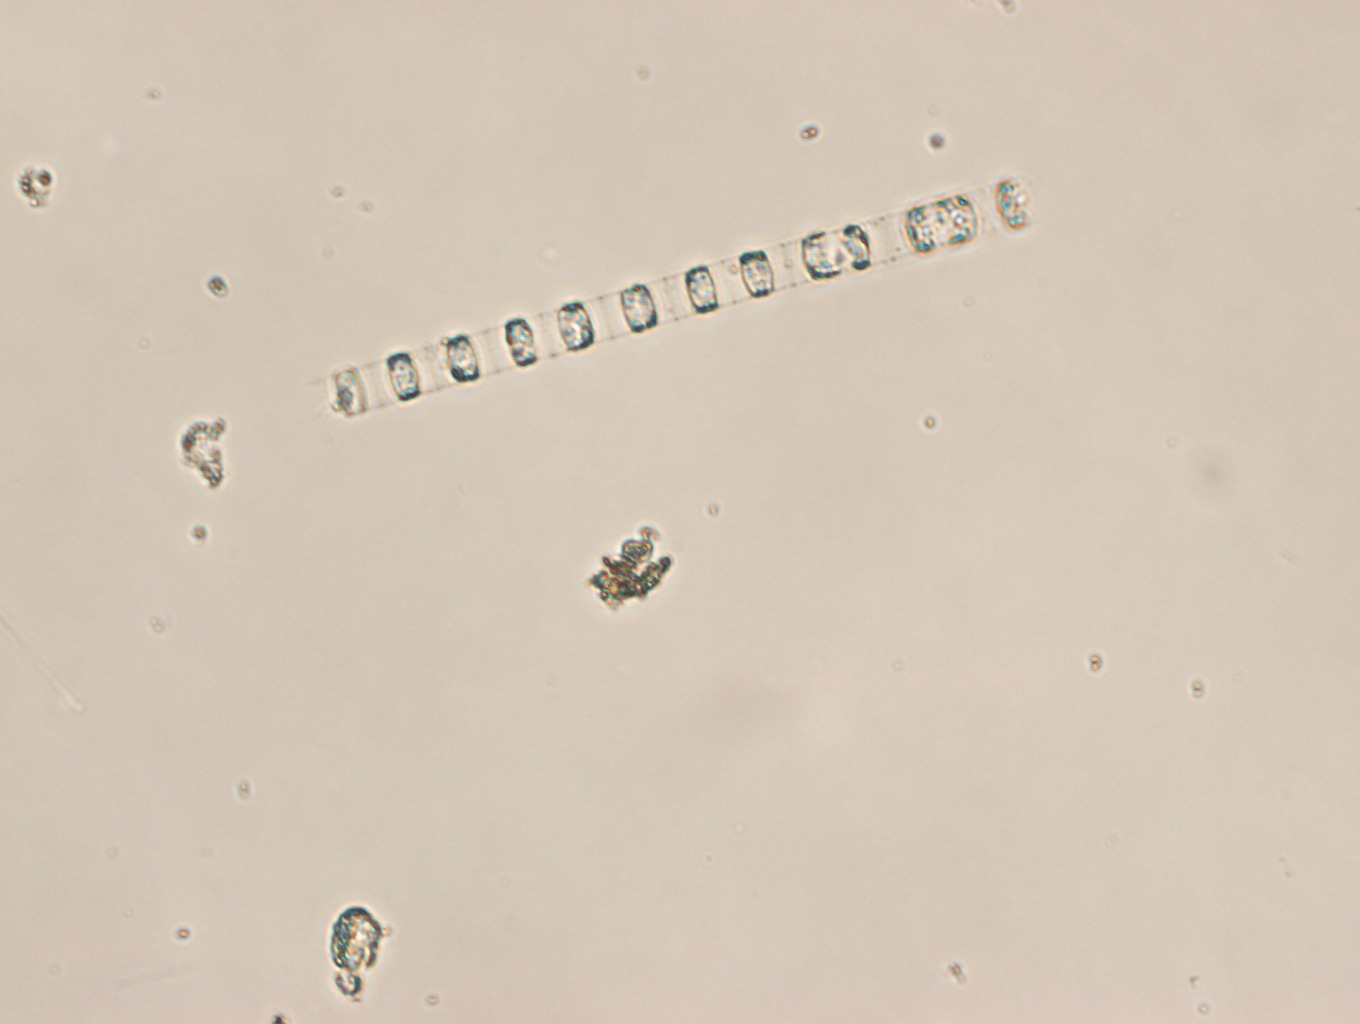skeletonema: (316, 172, 1035, 429)
